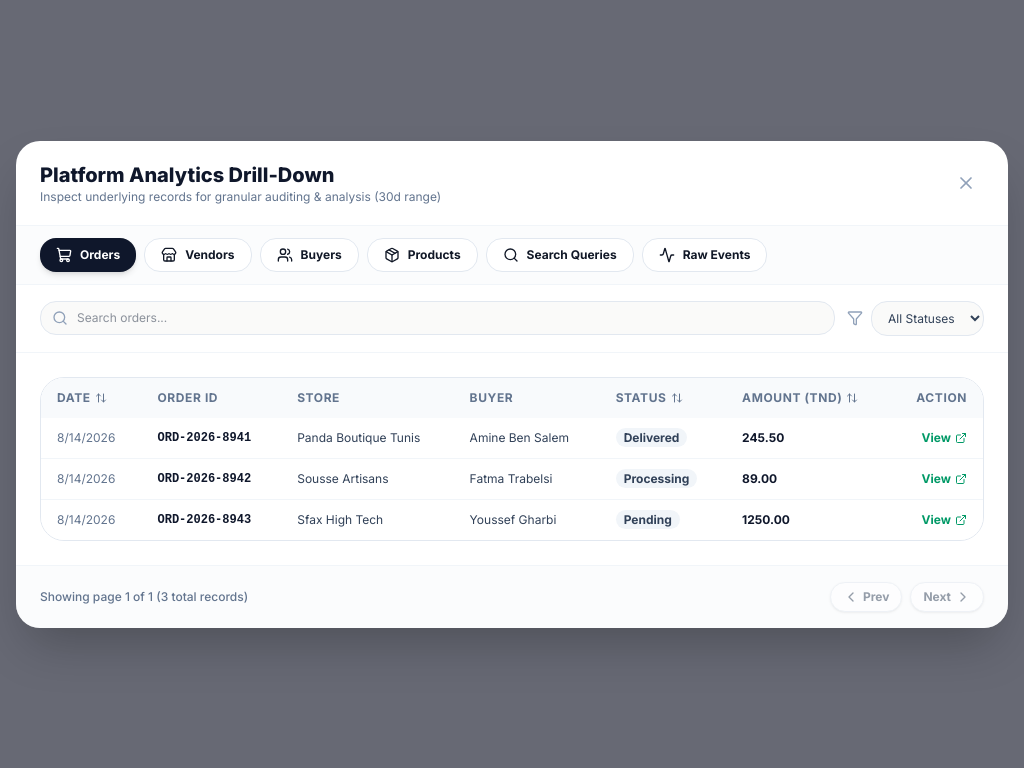
Test: Feature 19: Interactive Slide-Out Entity Drilldown Drawer (R6) › Tier 1: Core Functional & Entity Metadata Verification › T1.7: opens contextual detailed inspection modal on clicking "View" on an order
This screenshot has width=1024, height=768.
Expected: the text "ORD-2026-8941" is shown, [142,418,281,458]
# Click "View" on the specific order row
Click the button "View" in the row of "ORD-2026-8941" at (944, 438), box [922,430,967,446]
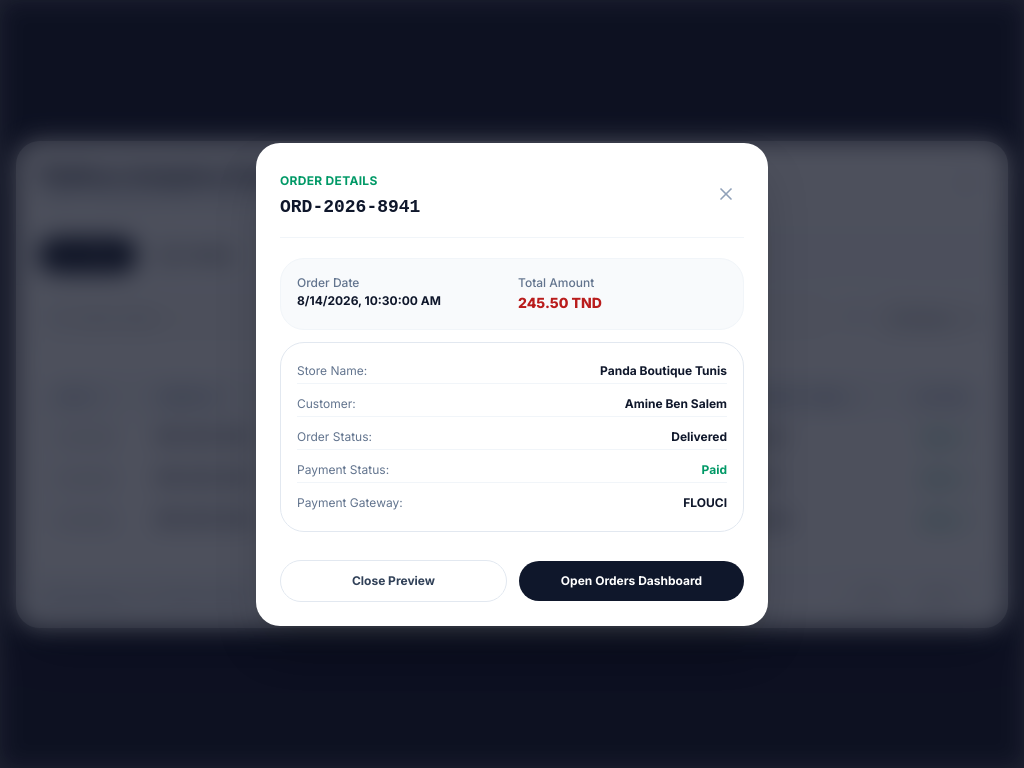
Expected: the text "Order Details" is shown, [280,172,378,188]
Expected: the text "245.50 TND" is shown, [518,294,602,310]
Expected: the button "Close Preview" is shown
# Close preview modal
Click the button "Close Preview" at (394, 580), box [280,560,507,602]
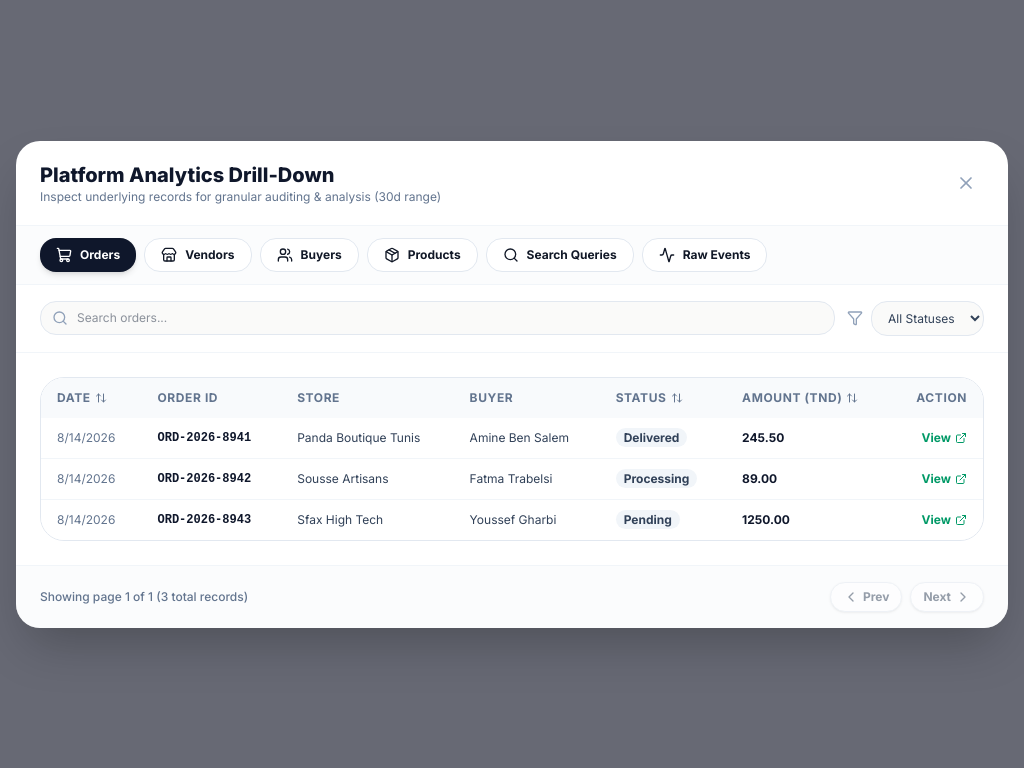
Expected: the text "Order Details" is gone
